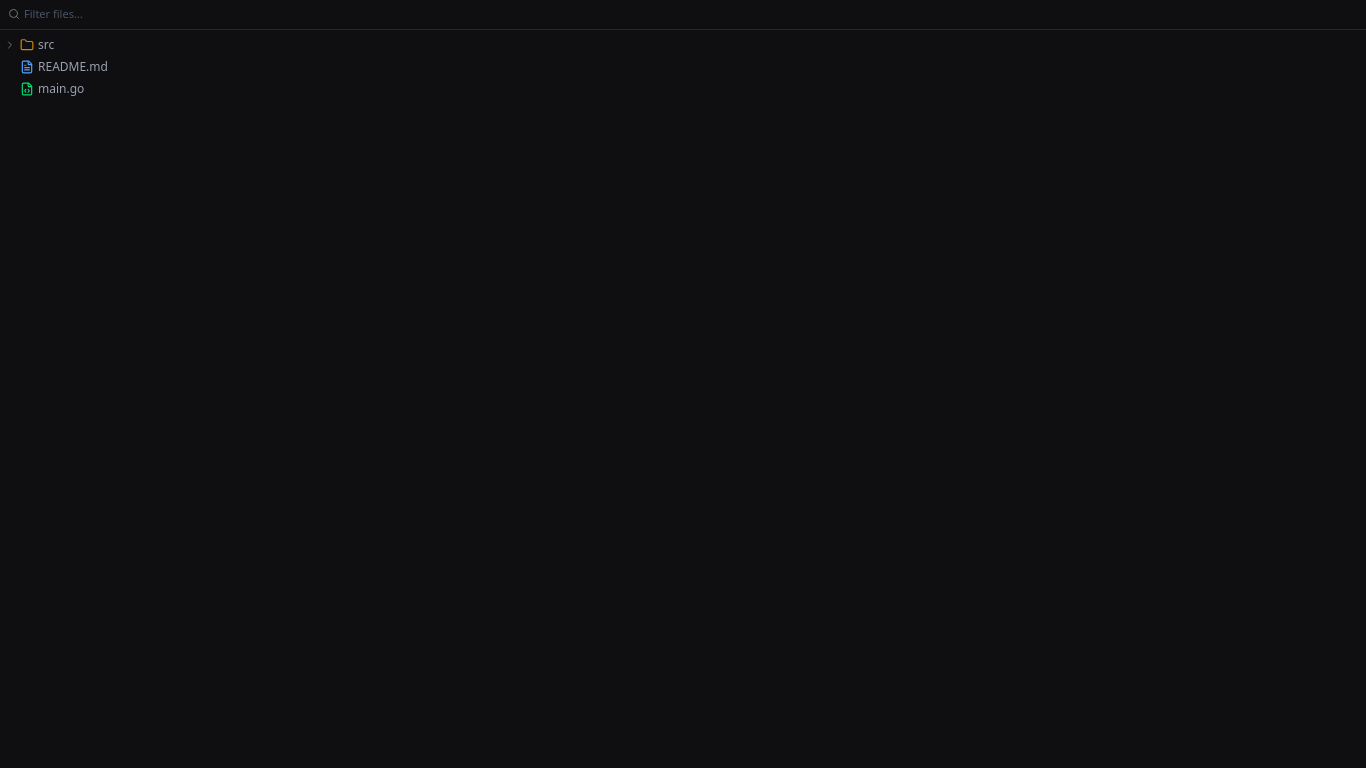
Test: FileTree › filters files by search query
The image size is (1366, 768).
Expected: the text "main.go" is shown, [38,80,84,98]
Type "main" into the field with placeholder "Filter files..." at [691, 14], box [24,6,1358,22]
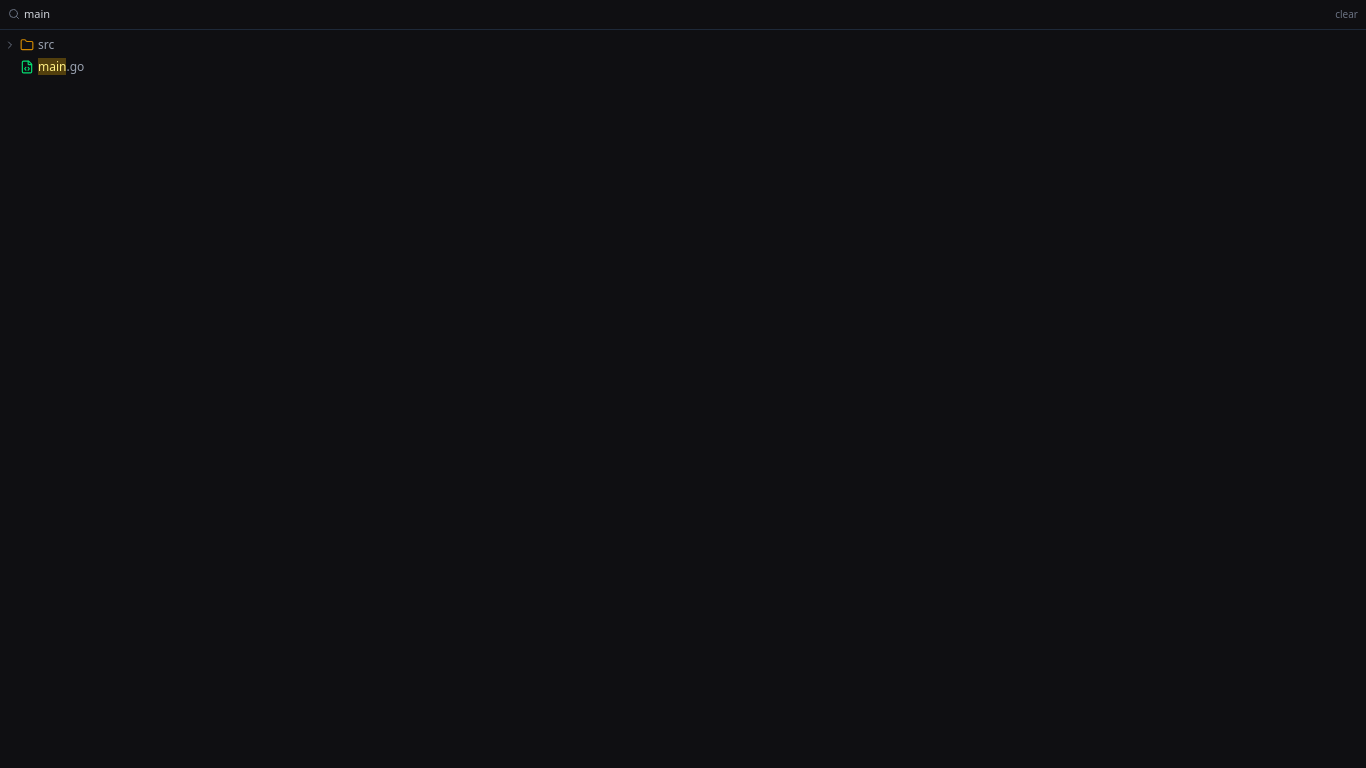
Expected: the text "README.md" is gone
